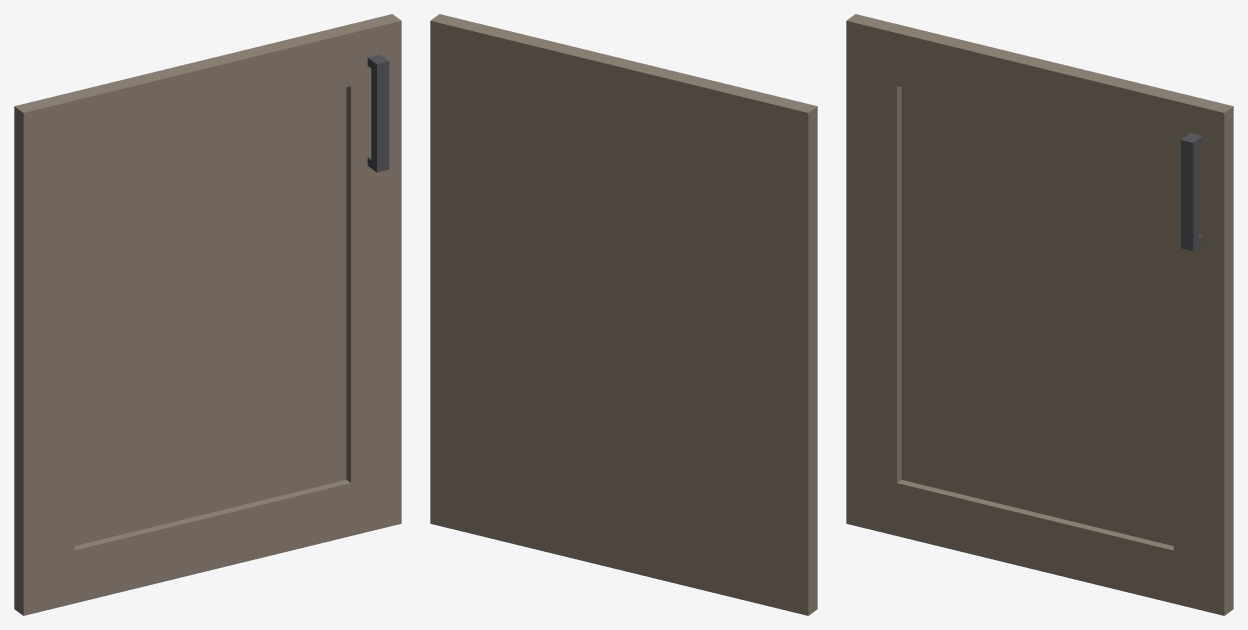
Rendered from Door2_C5_02.fbx.
3 renders of one model, left to right at view 1: azimuth 30°, elevation 25°; view 2: azimuth 150°, elevation 25°; view 3: azimuth 330°, elevation 25°, orthographic.
Parts seen in each view (by area): view 1: Door2_C5_02; view 2: Door2_C5_02; view 3: Door2_C5_02.
Boxes of the visible parts, x1,y1,x2,y2 form: Door2_C5_02: [14, 14, 401, 615]; Door2_C5_02: [430, 14, 817, 615]; Door2_C5_02: [846, 14, 1233, 615].
Size of the model in its own units: 59 by 75 by 5.03.
